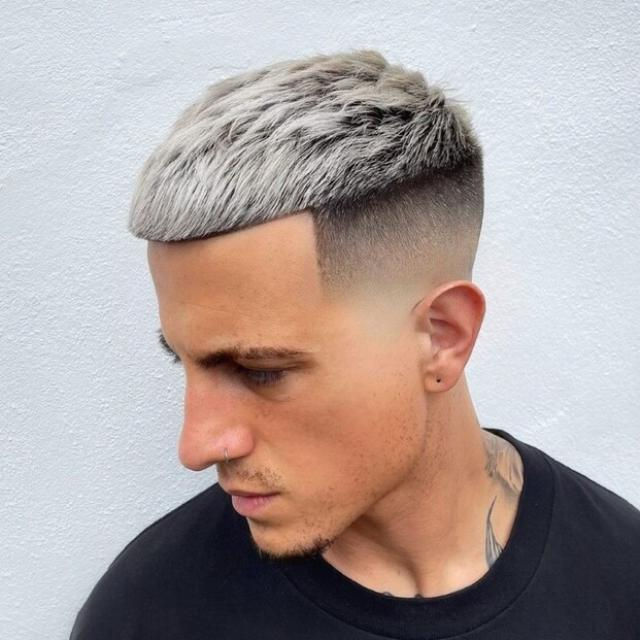Nonhelmet: (124, 45, 494, 561)
